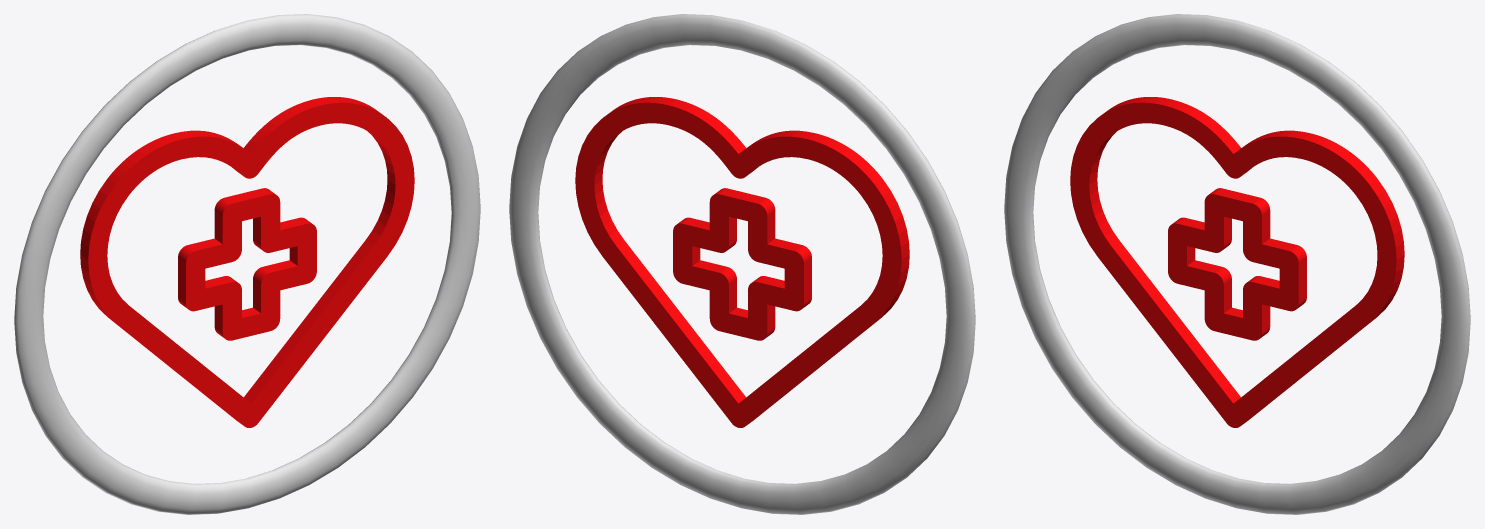
Rendered from HeartItem.fbx.
3 views of the same model, side by side, from view 1: azimuth 30°, elevation 25°; view 2: azimuth 150°, elevation 25°; view 3: azimuth 330°, elevation 25° (orthographic).
Visible parts, largest first — view 1: RIng, HeartItem; view 2: RIng, HeartItem; view 3: RIng, HeartItem.
Boxes of the visible parts, x1,y1,x2,y2 form: RIng: (14,14,480,514); HeartItem: (80,97,414,427); RIng: (509,14,975,514); HeartItem: (575,97,909,427); RIng: (1004,14,1470,514); HeartItem: (1070,97,1404,427).
Size of the model in its own units: 200 by 200 by 6.
